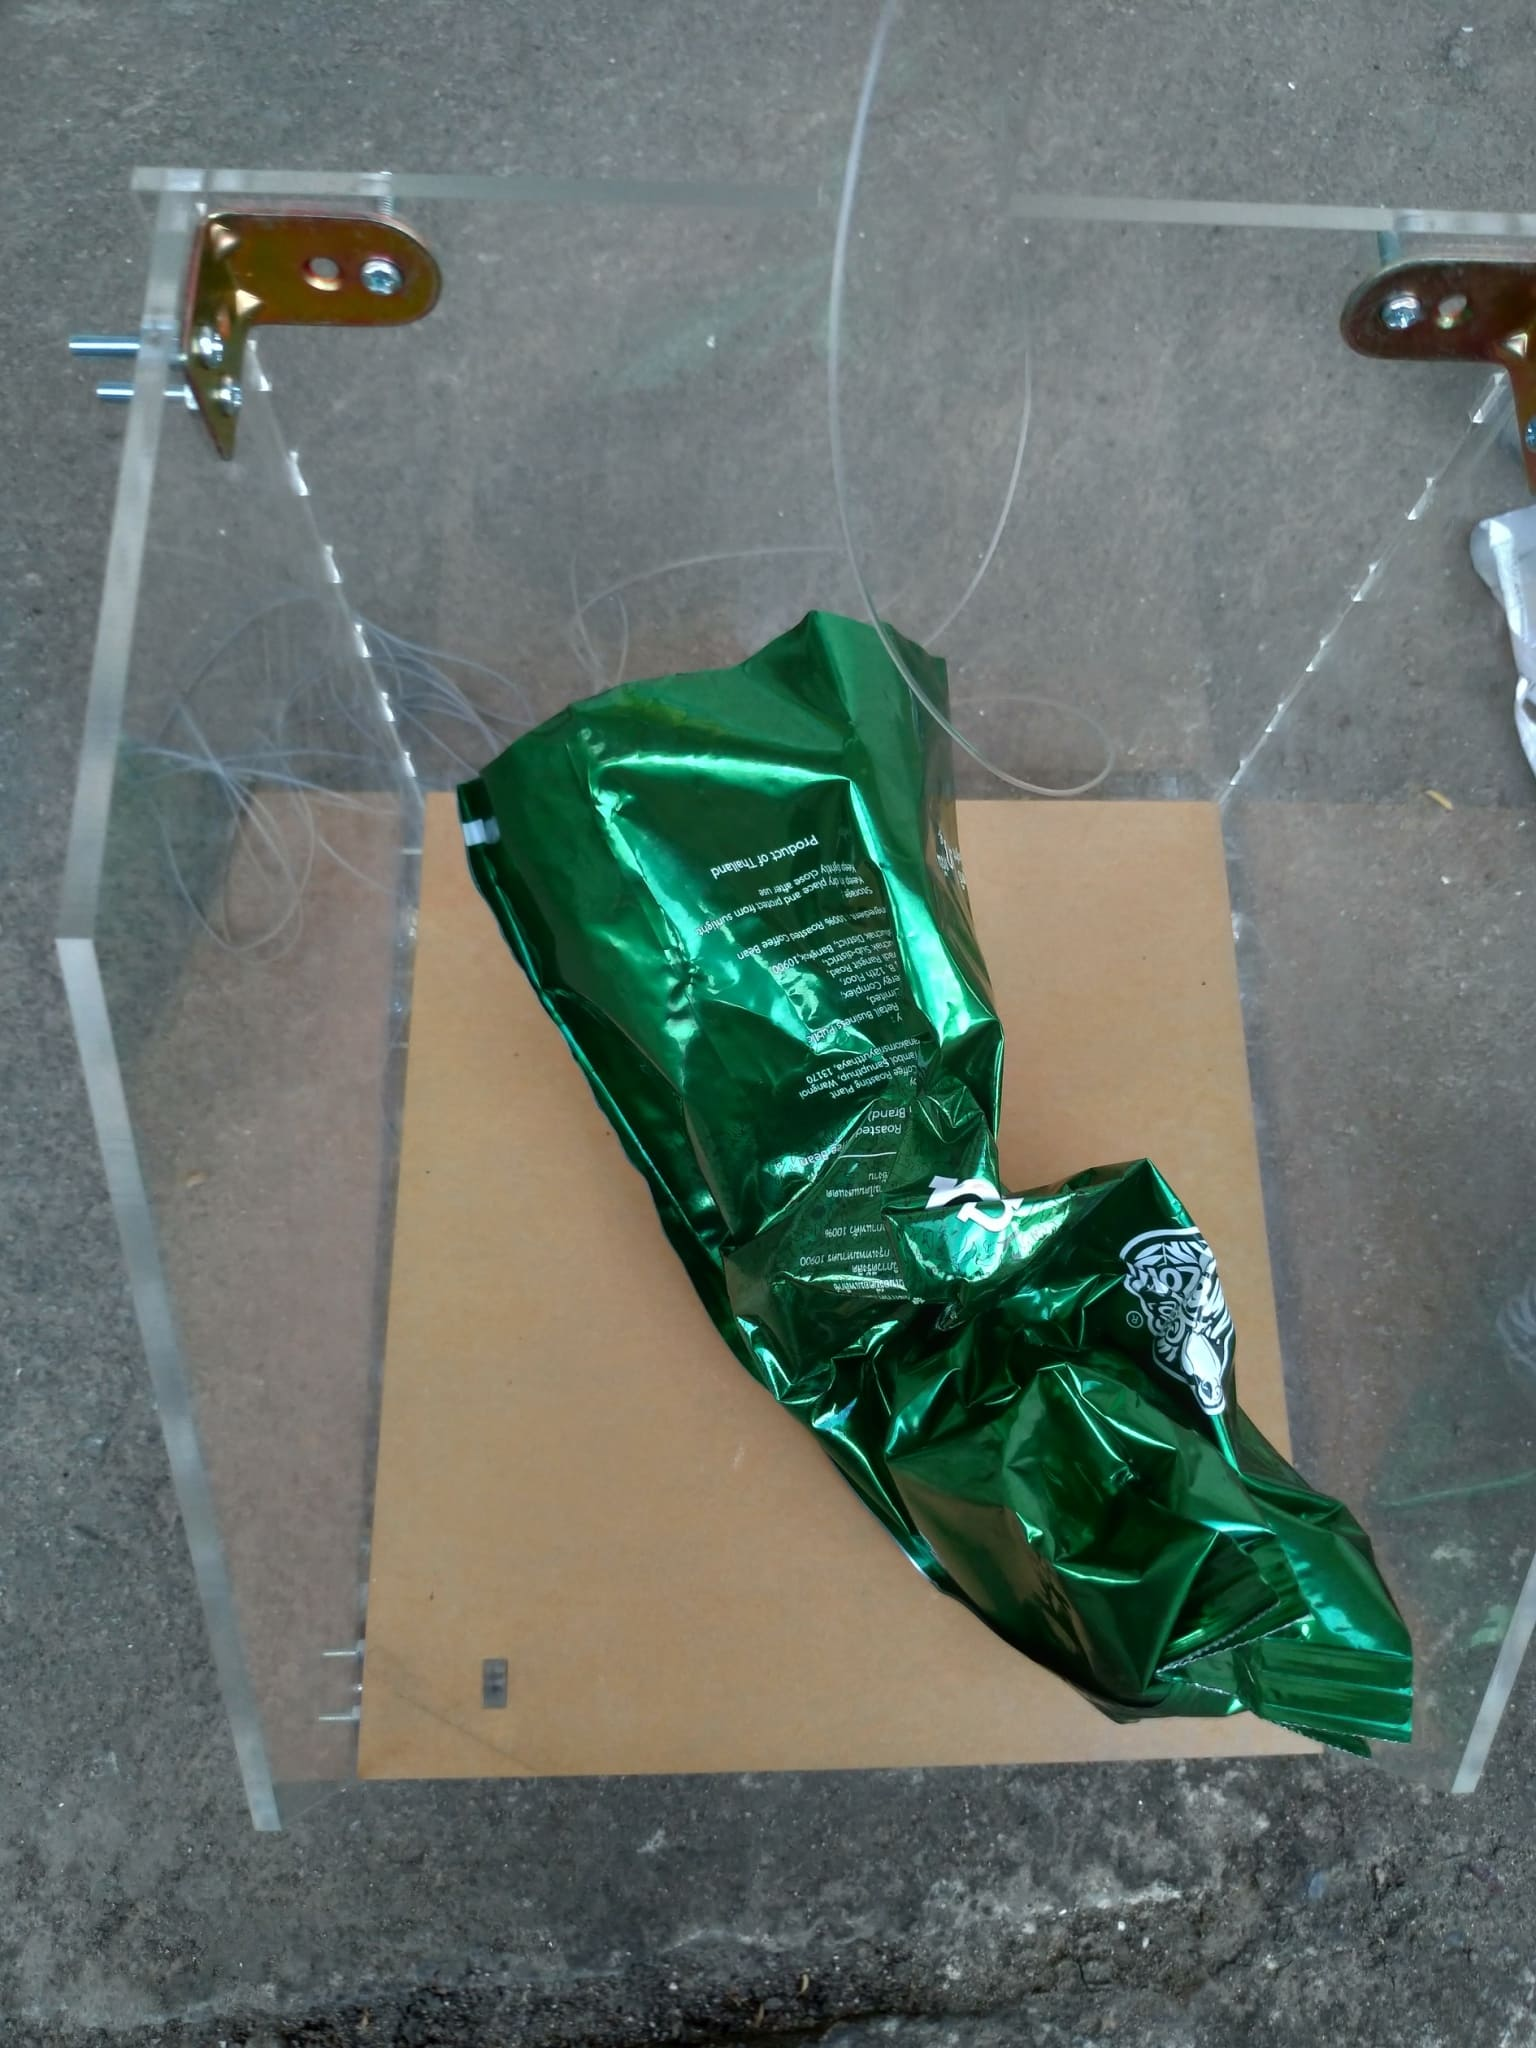Others: (447, 589, 1413, 1758)
